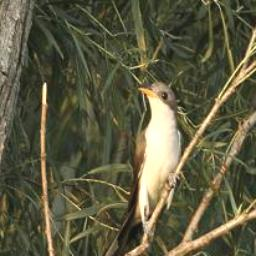Cuckoo: (87, 79, 185, 256)
